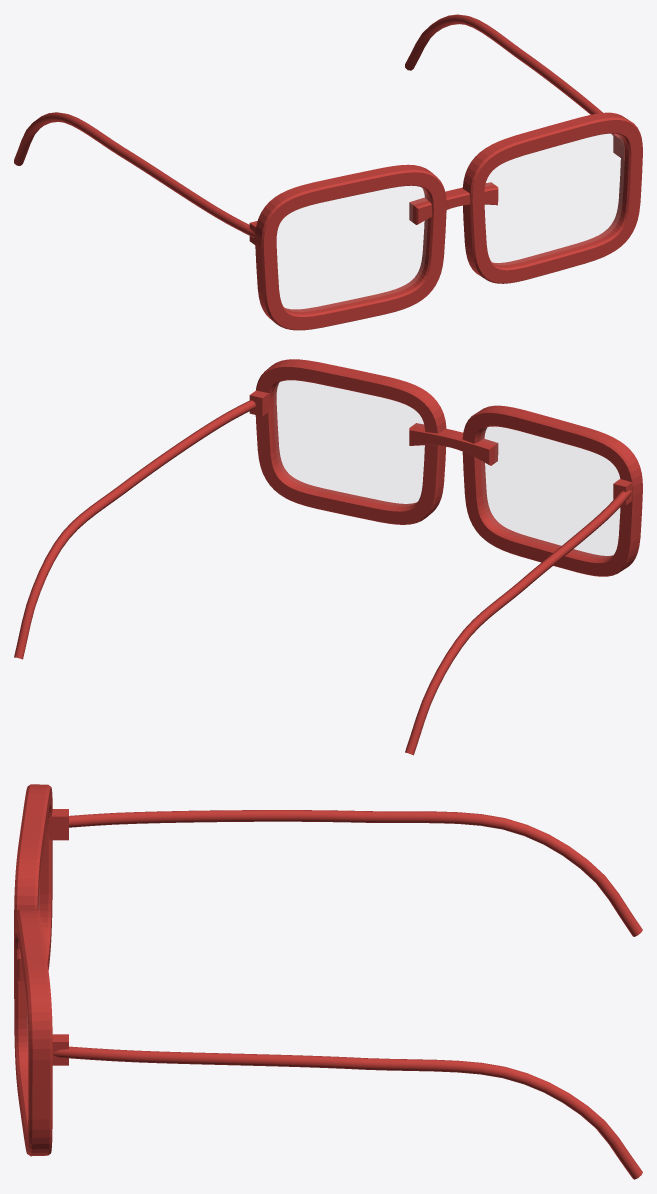
File: NY-K02_Bolt_Fire_red.glb
3 views of the same model, one above another, from view 1: azimuth 30°, elevation 25°; view 2: azimuth 150°, elevation 25°; view 3: azimuth 270°, elevation 25° (orthographic). The views are drawn at different scales.
Visible parts, largest first — view 1: Bolt_Fire_red_Acetate, Bolt_Fire_red_Lenses; view 2: Bolt_Fire_red_Acetate, Bolt_Fire_red_Lenses; view 3: Bolt_Fire_red_Acetate.
Part boxes in pixels (<box>): Bolt_Fire_red_Acetate: <box>14,14,642,330</box>; Bolt_Fire_red_Lenses: <box>277,134,623,311</box>; Bolt_Fire_red_Acetate: <box>14,359,642,755</box>; Bolt_Fire_red_Lenses: <box>274,381,619,557</box>; Bolt_Fire_red_Acetate: <box>14,784,642,1179</box>.
Bounding box in the file's own units: 0.1251 × 0.0411 × 0.131.
